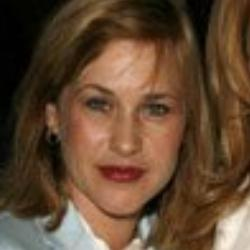face: (14, 3, 220, 225)
